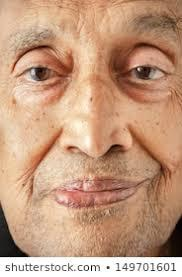strokeEyeWeak: (4, 20, 180, 99)
strokeMouthWeak: (42, 173, 155, 216)
